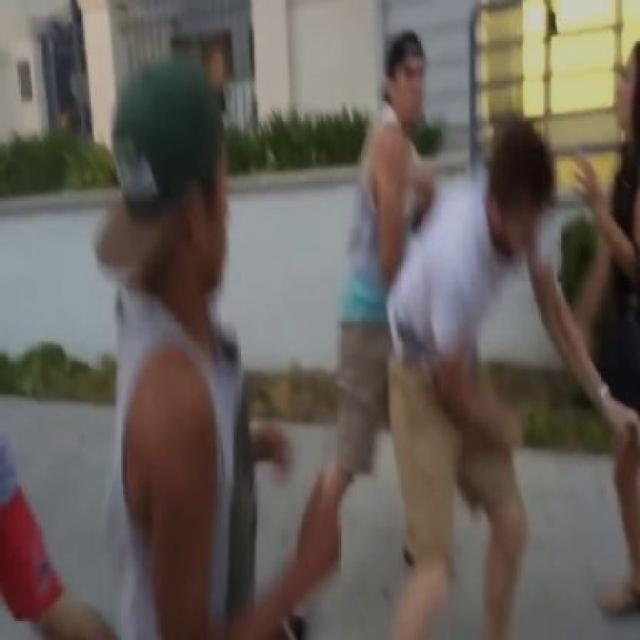fight: (58, 1, 639, 640)
